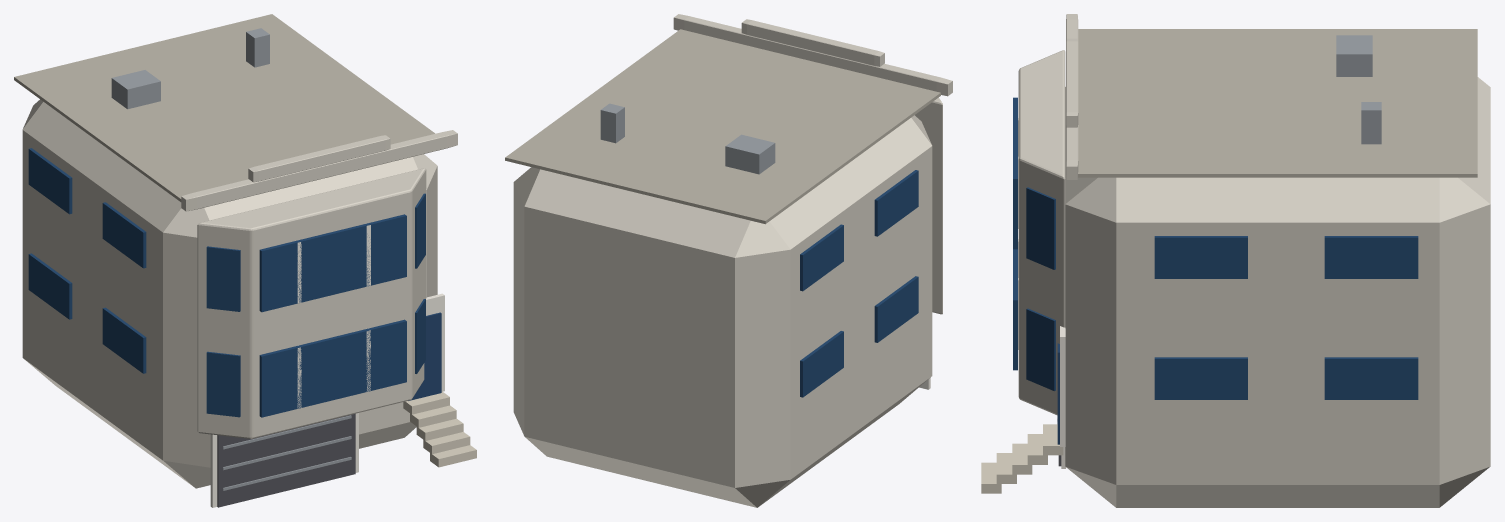
The model's file is rich_w9_stepped.glb.
3 views of the same model, side by side, from view 1: azimuth 30°, elevation 25°; view 2: azimuth 150°, elevation 25°; view 3: azimuth 270°, elevation 25° (orthographic). The views are drawn at different scales.
Parts seen in each view (by area): view 1: walls, roofslab, bay, bw, bw.001, gdoor, pp, pp2, bwa.002, bwa, sb.002, sb.004 (+14 smaller); view 2: walls, roofslab, pp, bay, pp2, sb, sb.004, sb.006, sb.002, hvac, pipe; view 3: walls, roofslab, bay, sb.003, sb.007, sb.001, sb.005, bwa.001, bwa.003, hvac, pp2, pp (+7 smaller).
Part boxes in pixels (x1,y1,x2,y2): walls: (22,99,437,488); roofslab: (14,14,434,201); bay: (197,168,426,438); bw: (259,319,406,417); bw.001: (259,214,406,312); gdoor: (217,413,355,507); pp: (181,130,457,211); pp2: (248,135,390,182); bwa.002: (206,246,240,311); bwa: (206,351,240,417); sb.002: (28,253,72,319); sb.004: (102,202,146,268); walls: (513,115,932,507); roofslab: (505,29,940,224); pp: (673,14,952,96); bay: (915,97,942,314); pp2: (741,19,884,66); sb: (874,276,918,342); sb.004: (874,170,918,236); sb.006: (800,224,843,291); sb.002: (800,331,843,397); hvac: (725,134,775,174); pipe: (600,103,624,143); walls: (1065,77,1490,507); roofslab: (1078,29,1477,177); bay: (1018,50,1065,415); sb.003: (1324,357,1418,399); sb.007: (1324,236,1418,278); sb.001: (1154,357,1247,399); sb.005: (1154,236,1247,278); bwa.001: (1026,308,1055,390); bwa.003: (1026,187,1055,269); hvac: (1336,35,1372,76); pp2: (1066,38,1078,127); pp: (1066,14,1078,179).
Bounding box in the file's own units: 9.2 × 10.4 × 12.57.
